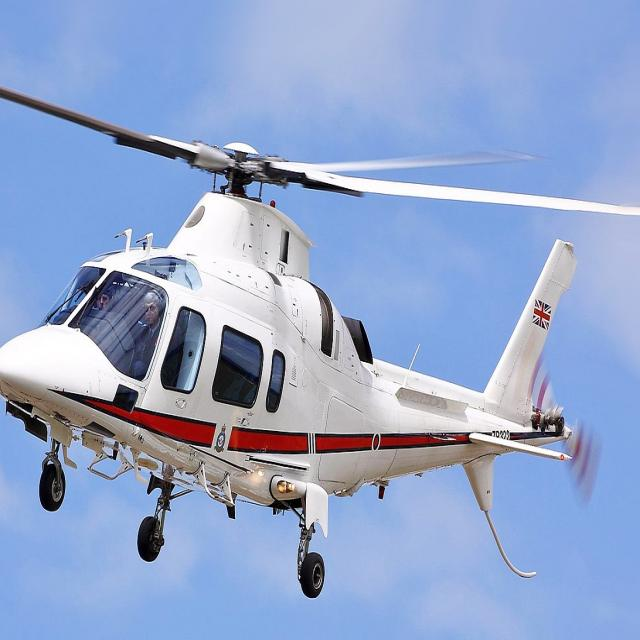helicopter: (1, 68, 560, 520)
